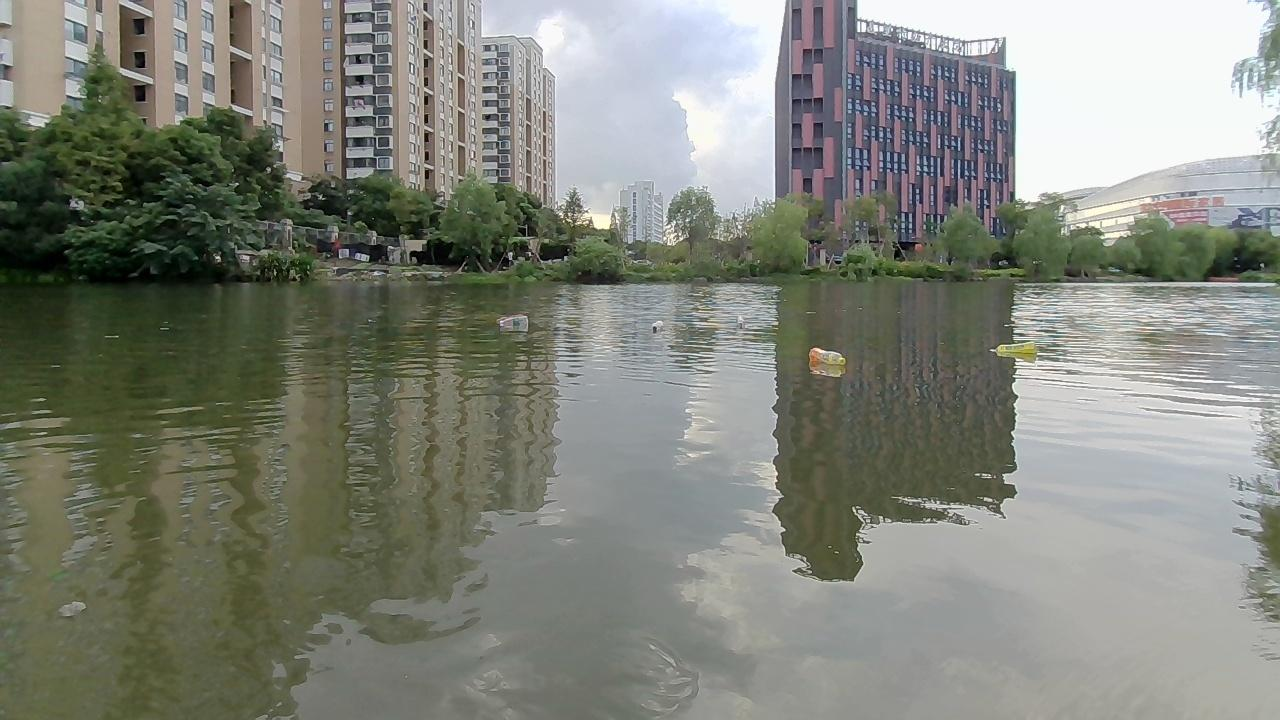bottle: (493, 308, 531, 333), (805, 346, 846, 369), (990, 337, 1036, 353), (646, 316, 665, 337), (731, 316, 743, 329)
